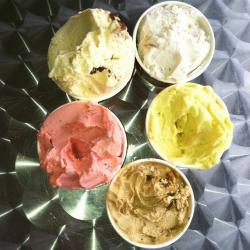icecream: (107, 161, 205, 249), (48, 8, 139, 102), (144, 83, 237, 174), (37, 103, 132, 189), (134, 2, 219, 84)
